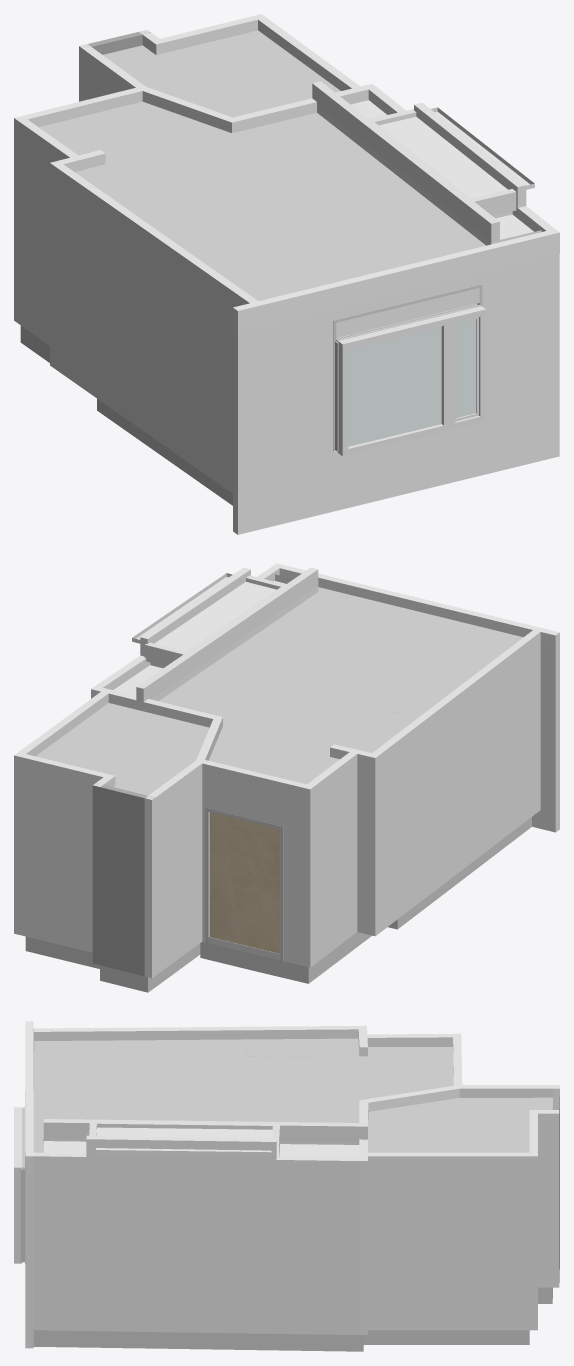
The model's file is residentRoom9.glb.
The picture shows the model from 3 angles, top to bottom: view 1: azimuth 30°, elevation 25°; view 2: azimuth 150°, elevation 25°; view 3: azimuth 270°, elevation 25°; orthographic projection. The views are drawn at different scales.
Parts seen in each view (by area): view 1: CEILING, WALL_14, WALL_3, WINDOW, WALL_2, WALL_5, WINDOW FRAME, LIGHT COVE_2, LIGHT COVE_3, WALL_13, LIGHT COVE_4, FLOOR (+10 smaller); view 2: CEILING, WALL_3, WALL_10, WALL_8, WALL_13, WALL, DOOR, WALL_5, FLOOR, LIGHT COVE_2, WALL_2, WALL_14 (+9 smaller); view 3: WALL_6, CEILING, WALL_11, FLOOR, LIGHT COVE_2, WALL_3, WALL_9, LIGHT COVE, LIGHT COVE_3, WALL_7, WALL_10, LIGHT COVE_4 (+8 smaller).
Boxes of the visible parts, left/top/right/bottom form: CEILING: left=39, top=30, right=485, bottom=301; WALL_14: left=233, top=254, right=559, bottom=534; WALL_3: left=50, top=161, right=257, bottom=493; WINDOW: left=348, top=319, right=475, bottom=446; WALL_2: left=233, top=229, right=559, bottom=332; WALL_5: left=19, top=119, right=78, bottom=345; WINDOW FRAME: left=338, top=306, right=485, bottom=456; LIGHT COVE_2: left=312, top=81, right=516, bottom=241; LIGHT COVE_3: left=375, top=107, right=534, bottom=198; WALL_13: left=14, top=88, right=140, bottom=323; LIGHT COVE_4: left=317, top=100, right=541, bottom=245; FLOOR: left=20, top=325, right=232, bottom=505; CEILING: left=35, top=587, right=522, bottom=795; WALL_3: left=368, top=630, right=540, bottom=936; WALL_10: left=14, top=752, right=107, bottom=952; WALL_8: left=144, top=758, right=205, bottom=978; WALL_13: left=202, top=760, right=314, bottom=967; WALL: left=92, top=783, right=154, bottom=976; DOOR: left=210, top=812, right=279, bottom=953; WALL_5: left=307, top=752, right=357, bottom=963; FLOOR: left=25, top=817, right=531, bottom=992; LIGHT COVE_2: left=136, top=567, right=318, bottom=701; WALL_2: left=273, top=563, right=559, bottom=654; WALL_14: left=532, top=651, right=559, bottom=832; WALL_6: left=33, top=1152, right=359, bottom=1334; CEILING: left=33, top=1038, right=552, bottom=1152; WALL_11: left=368, top=1152, right=529, bottom=1330; FLOOR: left=33, top=1287, right=552, bottom=1351; LIGHT COVE_2: left=43, top=1119, right=367, bottom=1156; WALL_3: left=33, top=1025, right=366, bottom=1089; WALL_9: left=529, top=1110, right=559, bottom=1287; LIGHT COVE: left=86, top=1135, right=276, bottom=1159; LIGHT COVE_3: left=95, top=1124, right=272, bottom=1155; WALL_7: left=359, top=1100, right=368, bottom=1334; WALL_10: left=529, top=1113, right=537, bottom=1330; LIGHT COVE_4: left=43, top=1138, right=359, bottom=1157.
Bounding box in the file's own units: 5.13 × 3.5 × 8.23.
Materials: 42 (7 with a texture image).
